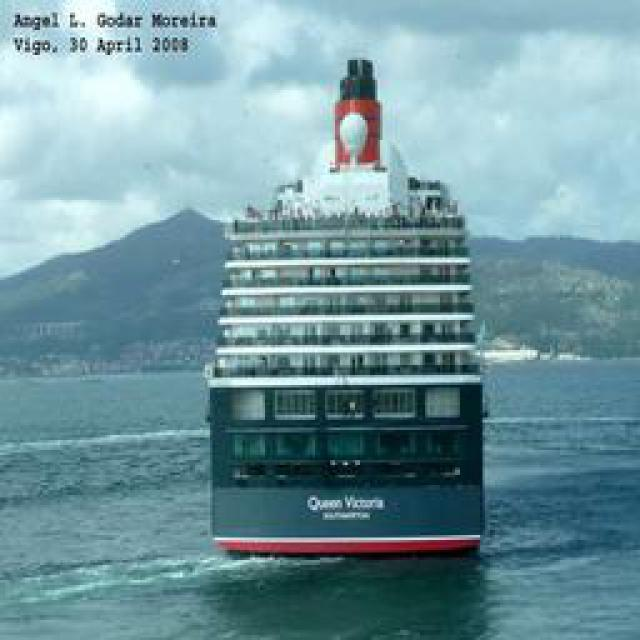Ship: (206, 54, 489, 567)
